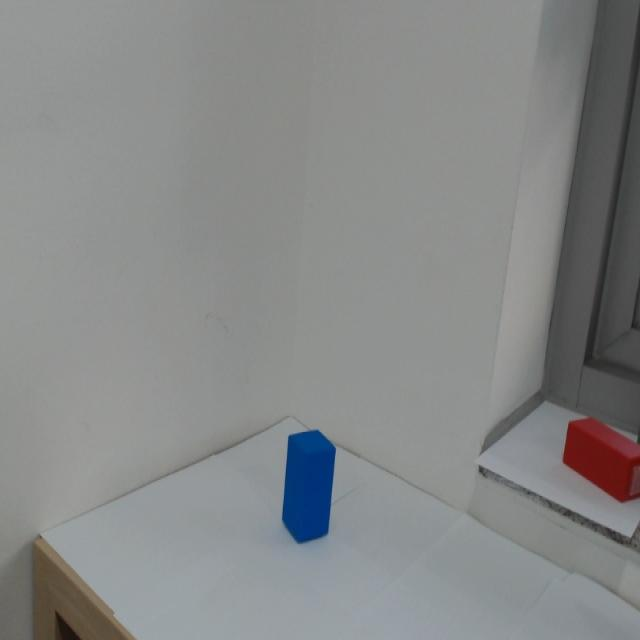cube: (278, 399, 346, 585)
